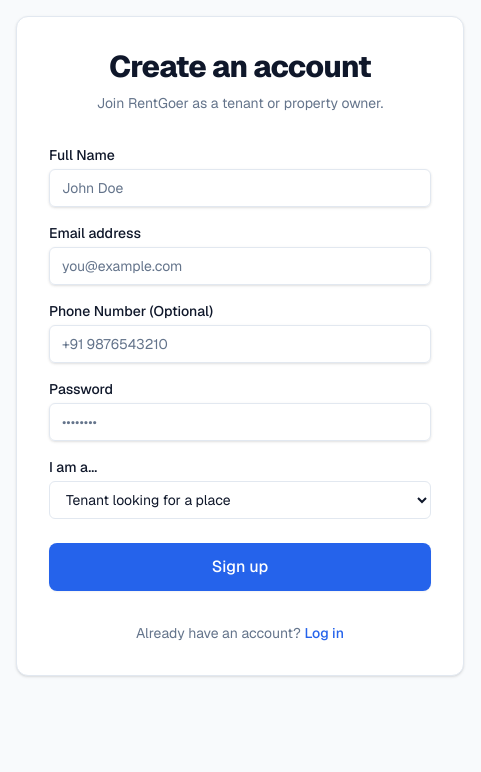
Test: RegisterPage component › displays duplicate email message when account already exists
Type "Duplicate" into the field labelled "Full Name".
click(240, 188); type("Duplicate")  # box top-left (49, 169), bottom-right (431, 207)
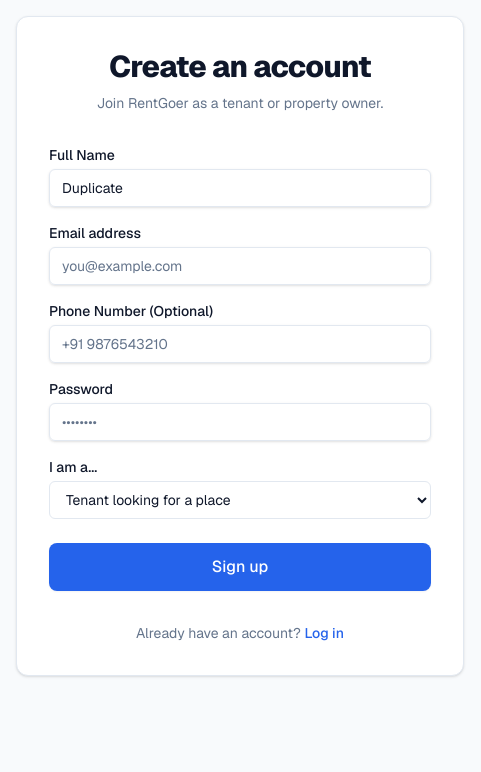
Type "dup@example.com" into the field labelled "Email address".
click(240, 266); type("dup@example.com")  # box top-left (49, 247), bottom-right (431, 285)
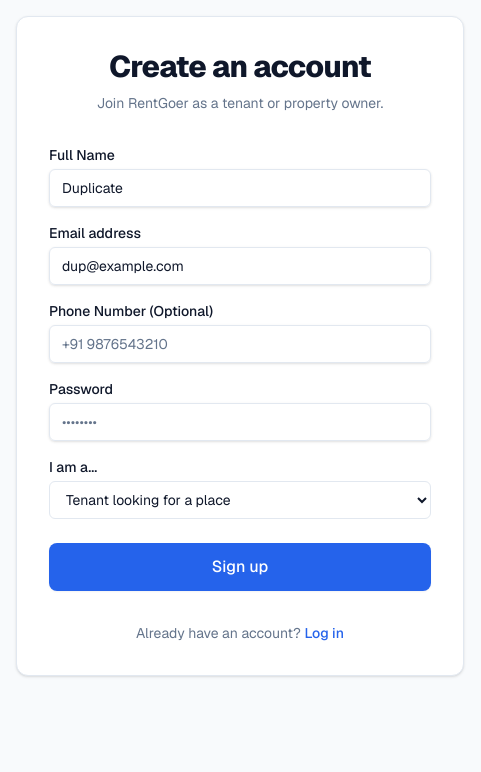
Type "ValidPassword123" into the password field labelled "Password".
click(240, 422); type("ValidPassword123")  # box top-left (49, 403), bottom-right (431, 441)
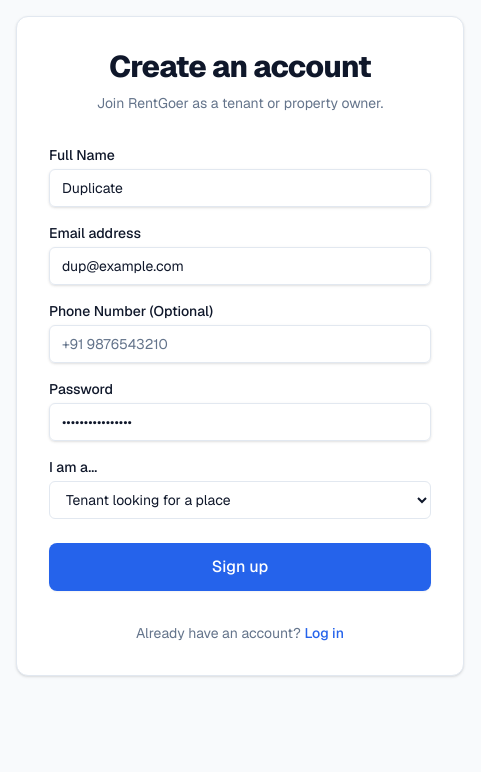
Click the button "Sign up".
click(240, 567)  # box top-left (49, 543), bottom-right (431, 591)
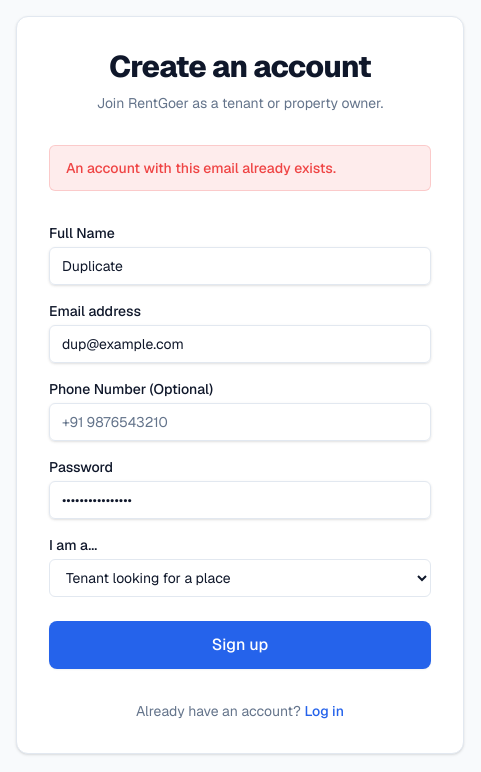
Check: the message shows "account with this email already exists", box top-left (66, 159), bottom-right (336, 177)
